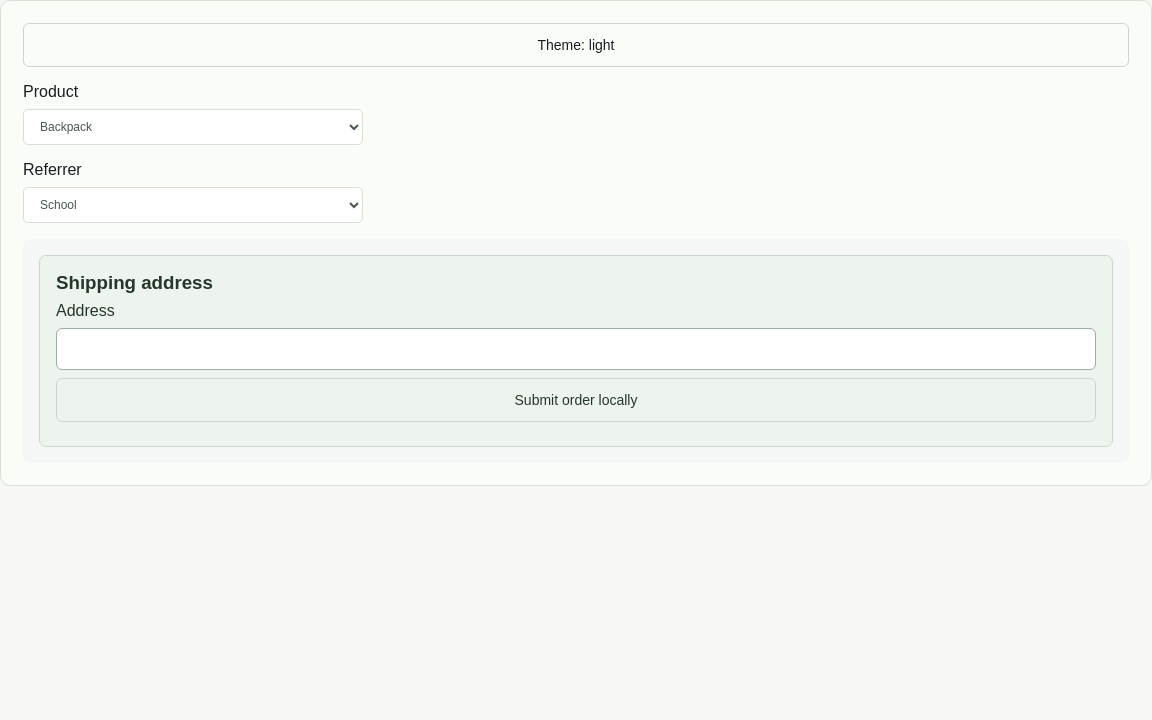
standalone optimization comparisons › unstable shipping form responds to theme, dependencies, own state and local submission
Click the button "Theme: light" at (576, 45), box x1=23 y1=23 x2=1129 y2=67
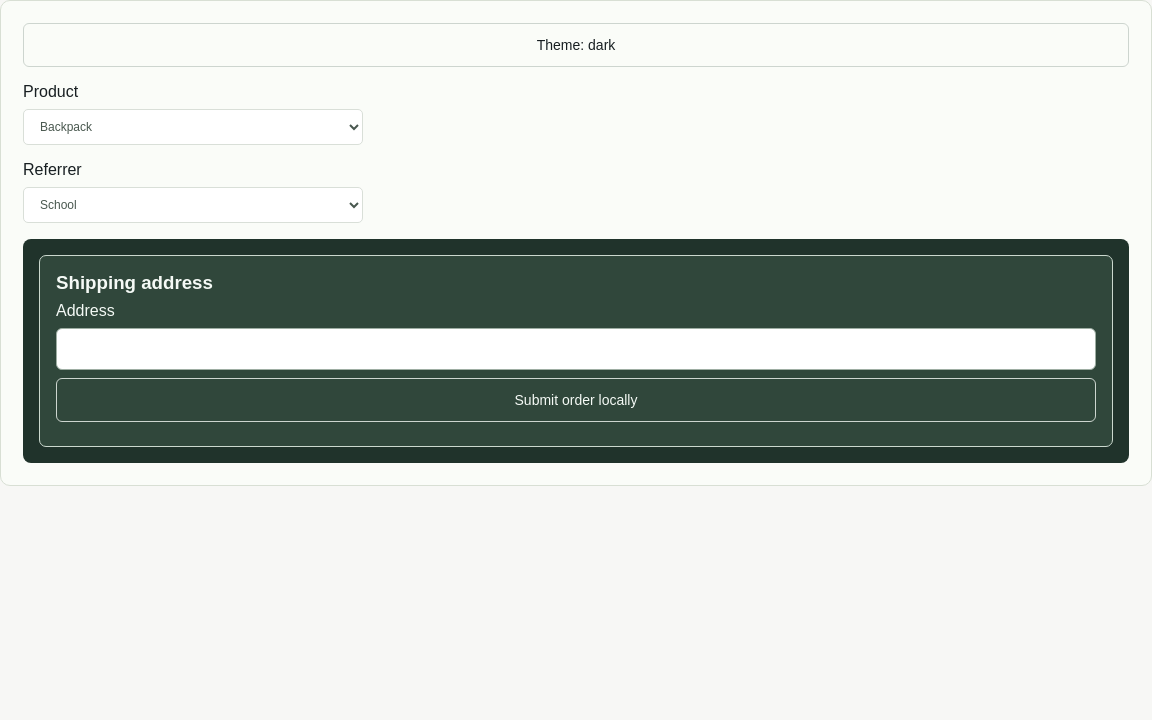
Select "Water bottle" in the dropdown labelled "Product" at (193, 127), box x1=23 y1=109 x2=363 y2=145
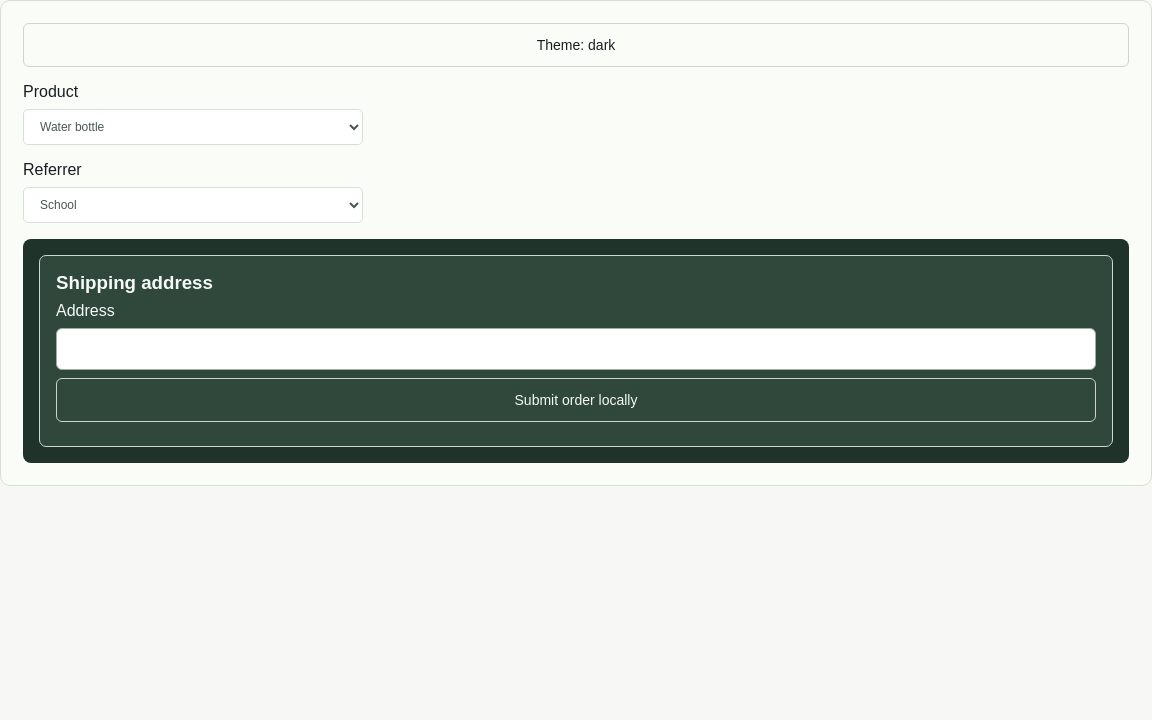
Select "Friend" in the dropdown labelled "Referrer" at (193, 205), box x1=23 y1=187 x2=363 y2=223
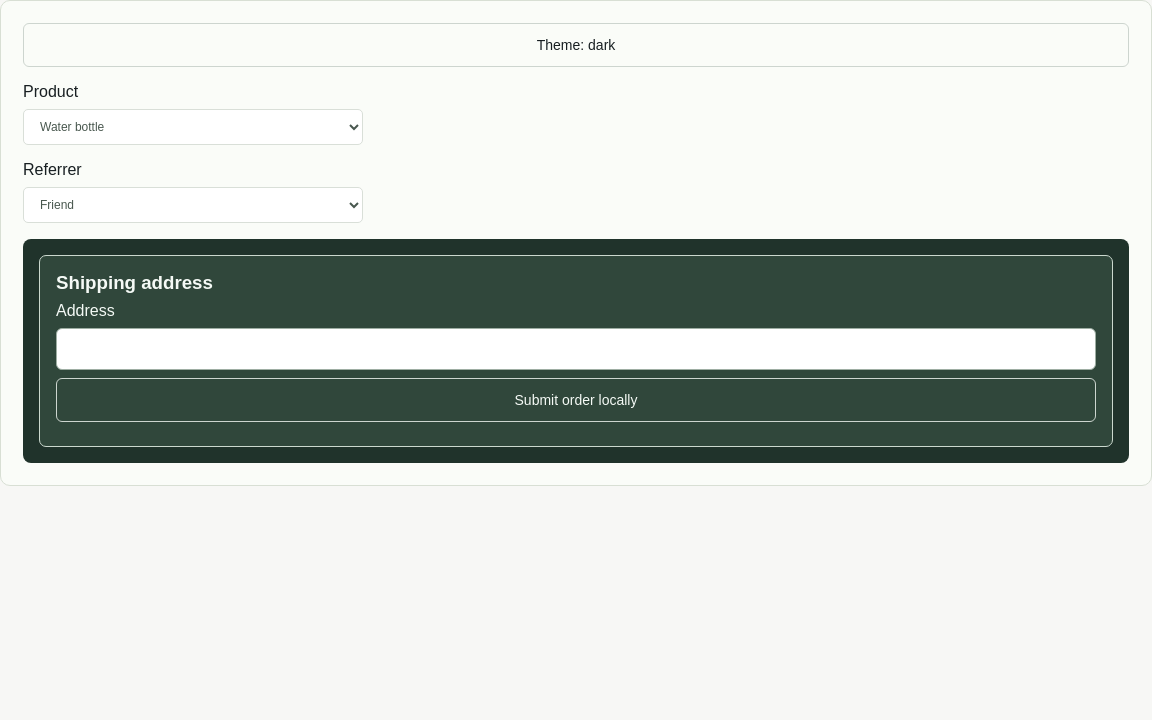
Type "12 School Road" into the field labelled "Address" at (576, 349), box x1=56 y1=328 x2=1096 y2=370
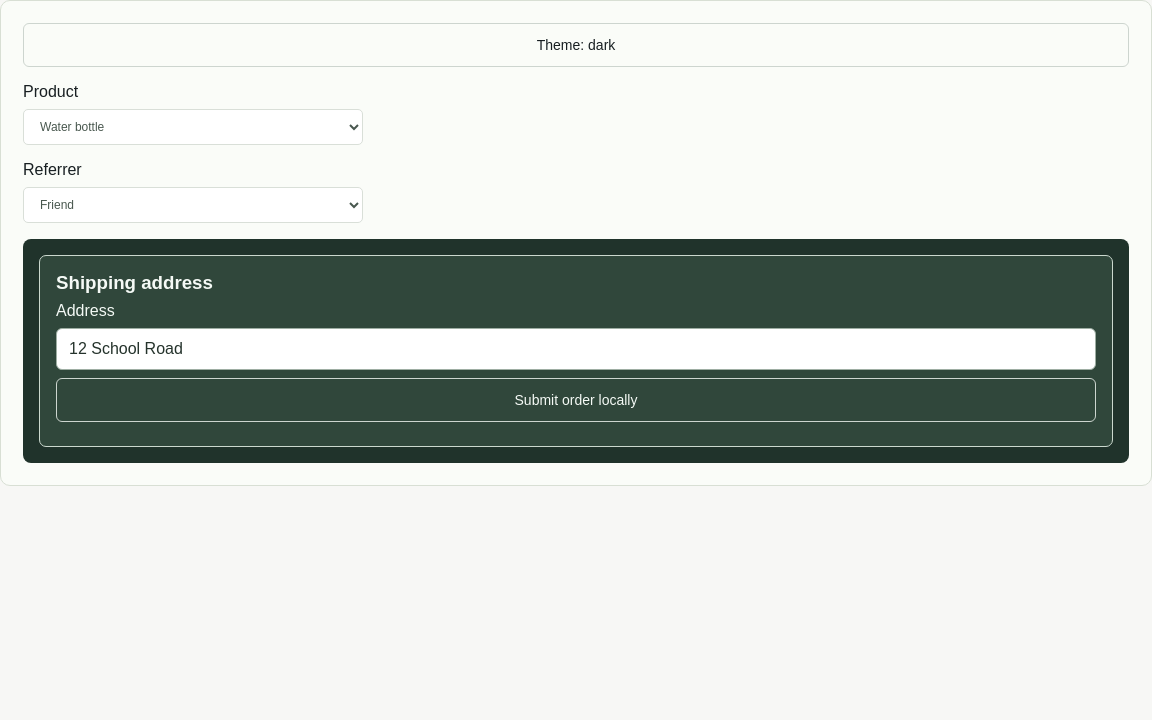
Submit the form "Submit order locally", box x1=39 y1=255 x2=1113 y2=447
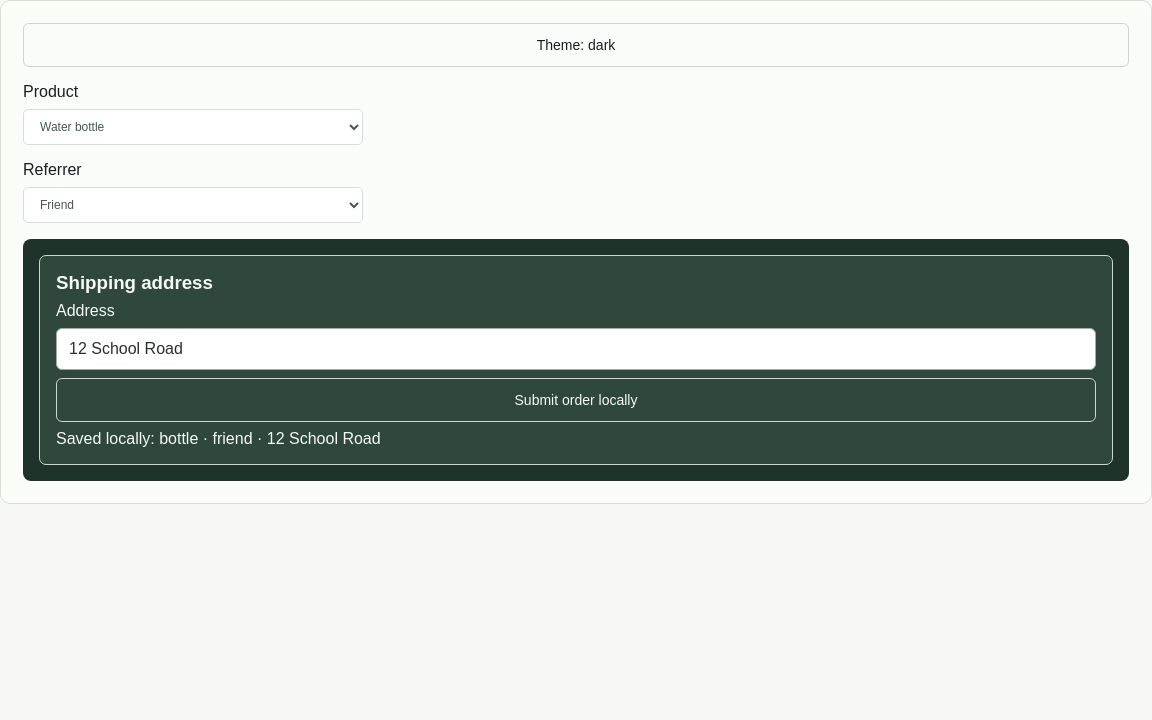
Check: the message reads "Saved locally: bottle · friend · 12 School Road", box x1=56 y1=430 x2=381 y2=447
